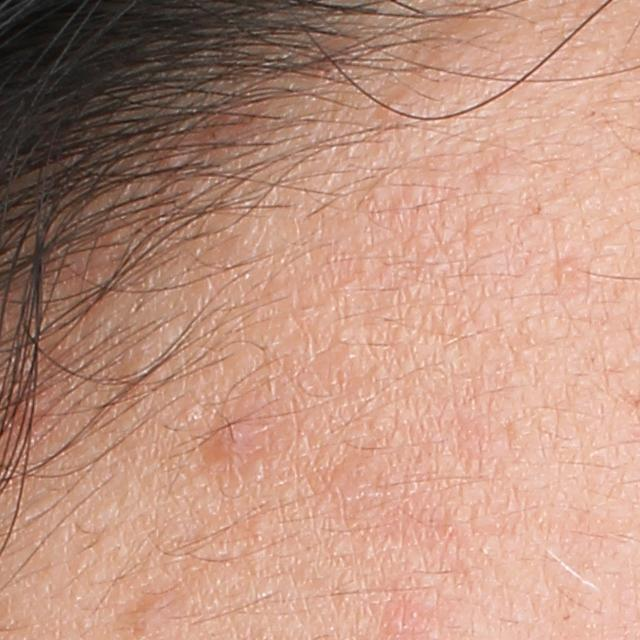comedo: (245, 510, 273, 536)
